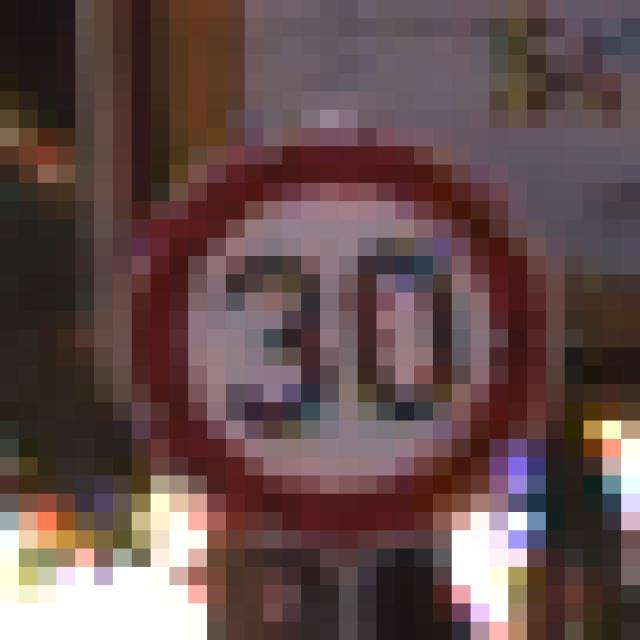Speed Limit -30-: (84, 100, 536, 540)
